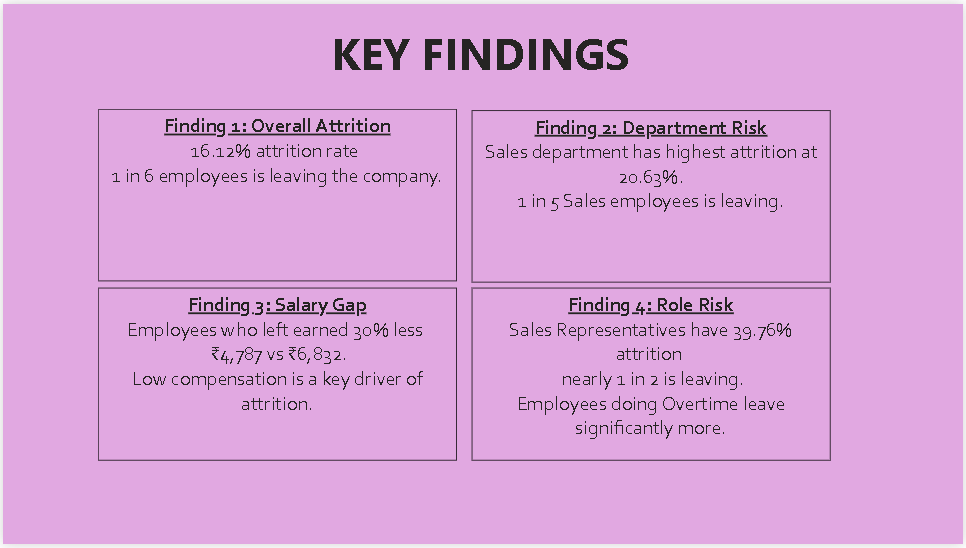

The dashboard page shown, as its layout file describes it:
{"tool":"powerbi","page":{"name":"Key Findings","canvas":[1280,720],"ordinal":2},"visuals":[{"type":"textbox","box":[126.4,139.9,478.5,229.4],"z":0},{"type":"textbox","box":[625.8,141.1,478.5,229.4],"z":1},{"type":"textbox","box":[126.4,379.1,478.5,230.7],"z":2},{"type":"textbox","box":[625.8,379.1,478.5,230.7],"z":3},{"type":"textbox","box":[365.6,19.6,543.6,95.7],"z":4}]}

Visuals, with their boxes in screenshot pixels (x1, y1, x2, y2), scaled from the page's 1280x720 canvas onto the 966x548 screenshot:
textbox: select_region(95, 106, 457, 281)
textbox: select_region(472, 107, 833, 282)
textbox: select_region(95, 289, 457, 464)
textbox: select_region(472, 289, 833, 464)
textbox: select_region(276, 15, 686, 88)
